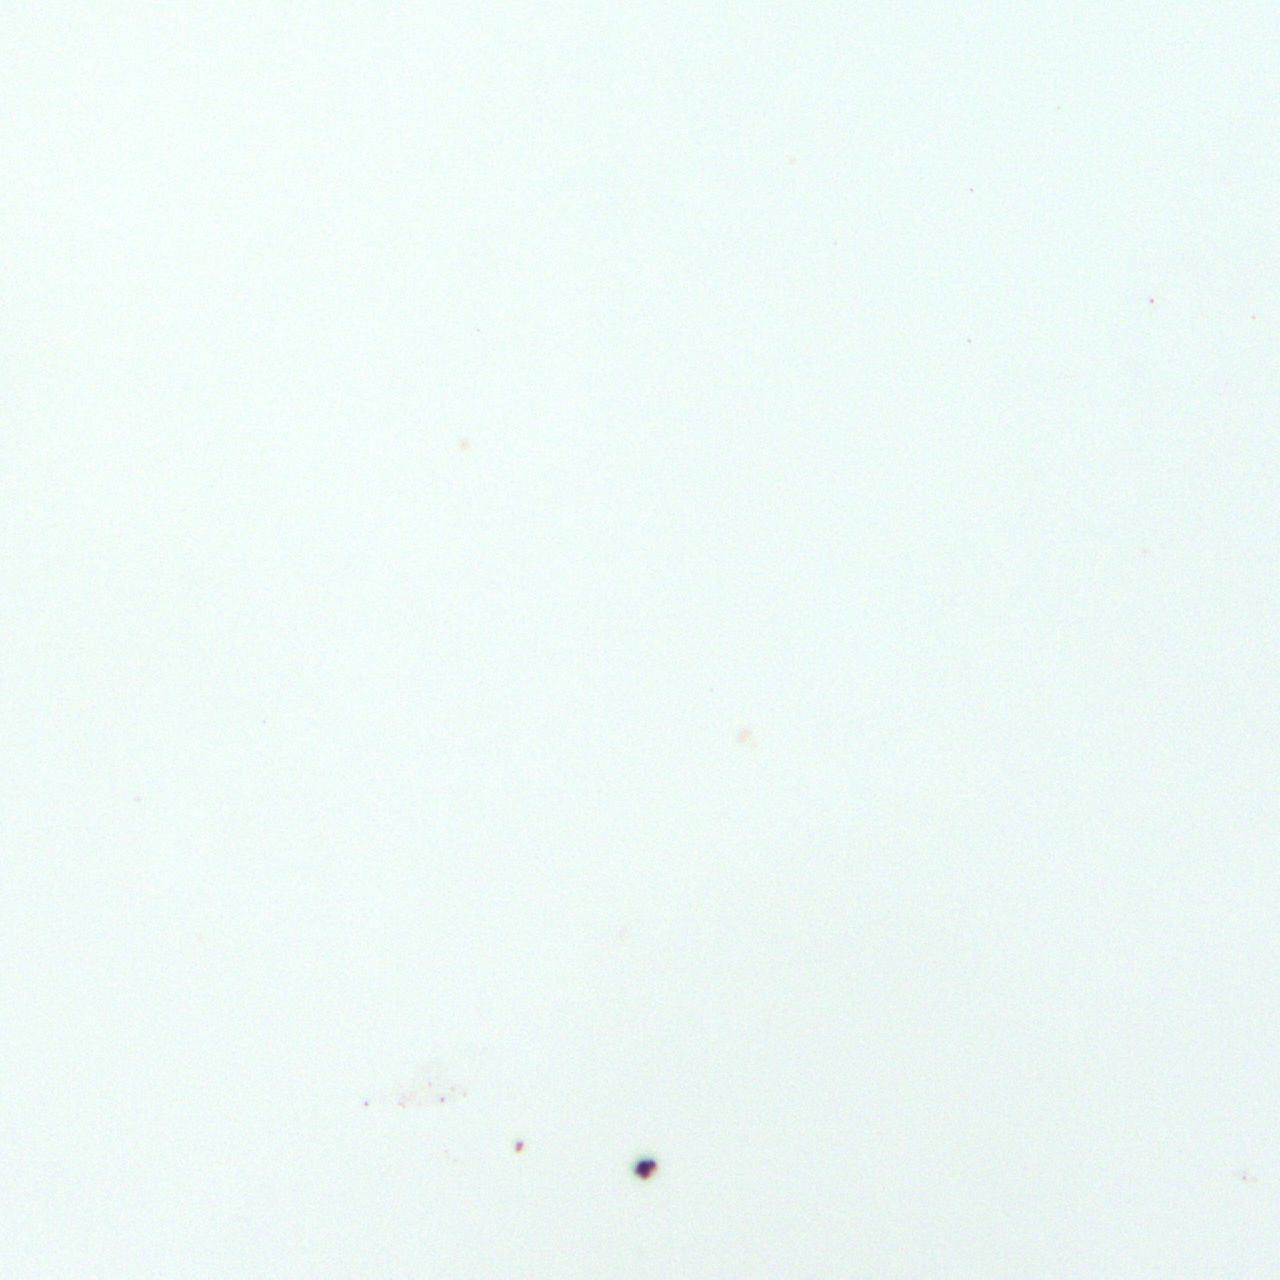dust: (633, 1158, 655, 1178), (515, 1141, 520, 1151), (440, 1097, 445, 1103), (363, 1099, 368, 1107)
